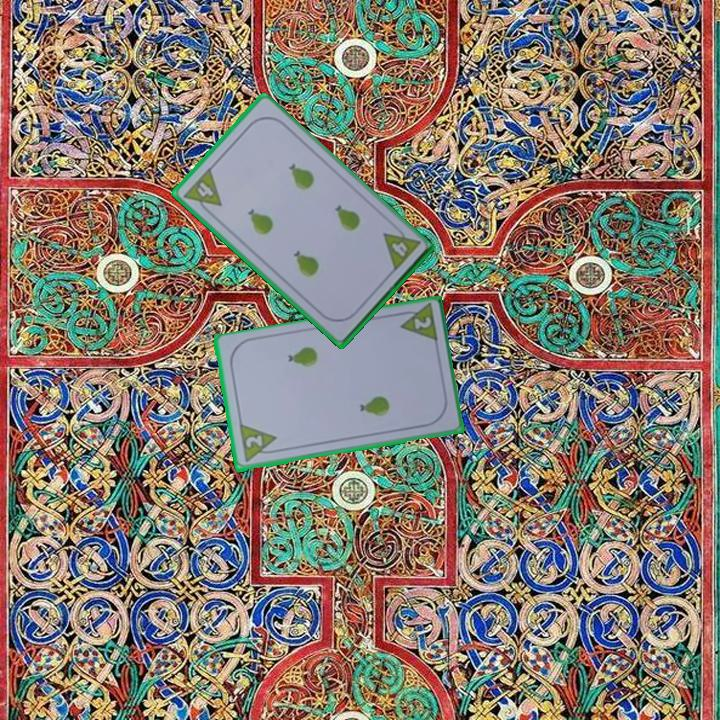2p: (235, 421, 281, 466), (394, 301, 440, 346)
4p: (180, 164, 224, 219), (380, 220, 422, 274)
